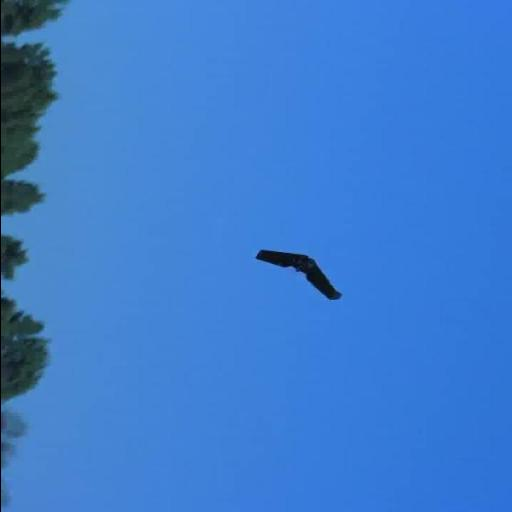uav: (242, 242, 348, 302)
